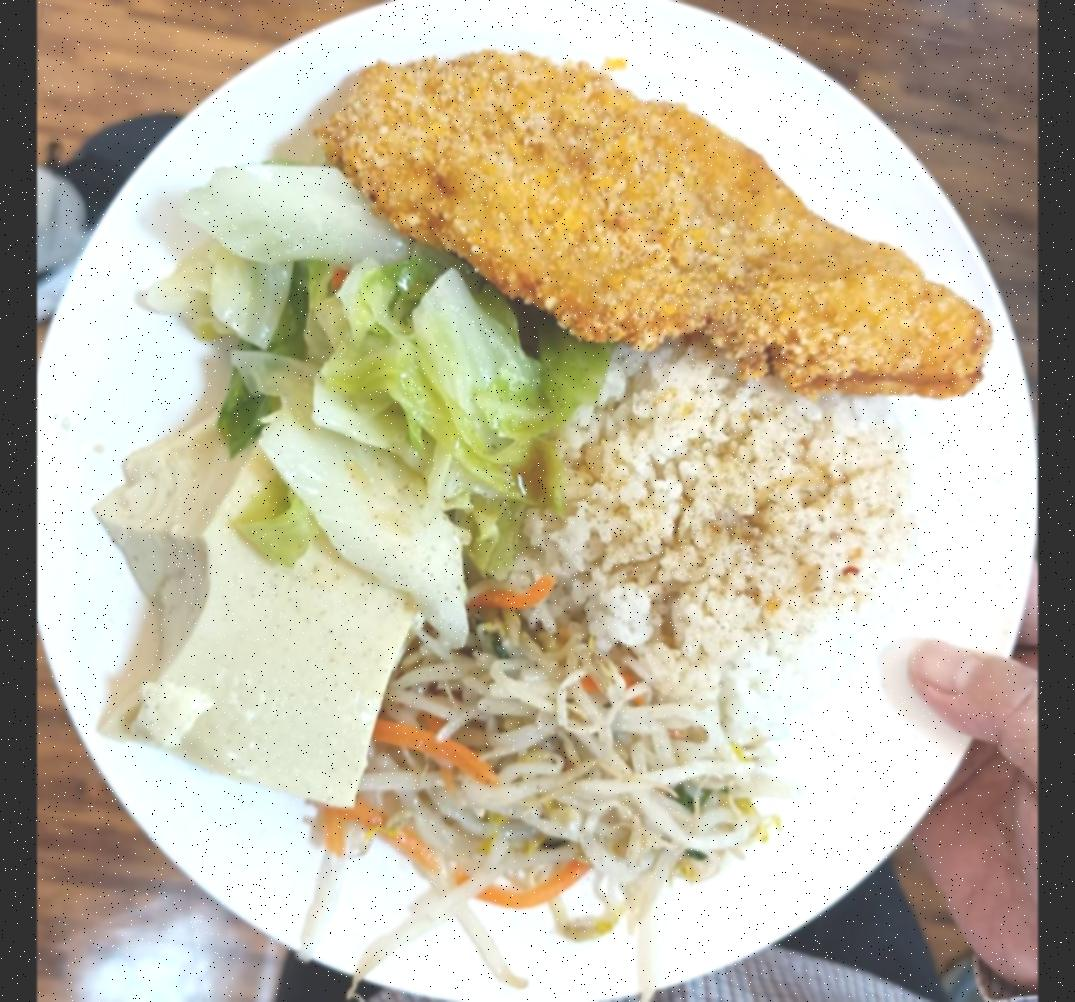big fried chicken leg: (36, 0, 1030, 1002)
big herbal chicken leg: (557, 336, 909, 749)
braised fish fillet: (144, 158, 608, 636), (99, 406, 417, 803), (363, 612, 790, 896)
braised pork: (327, 43, 986, 402)
